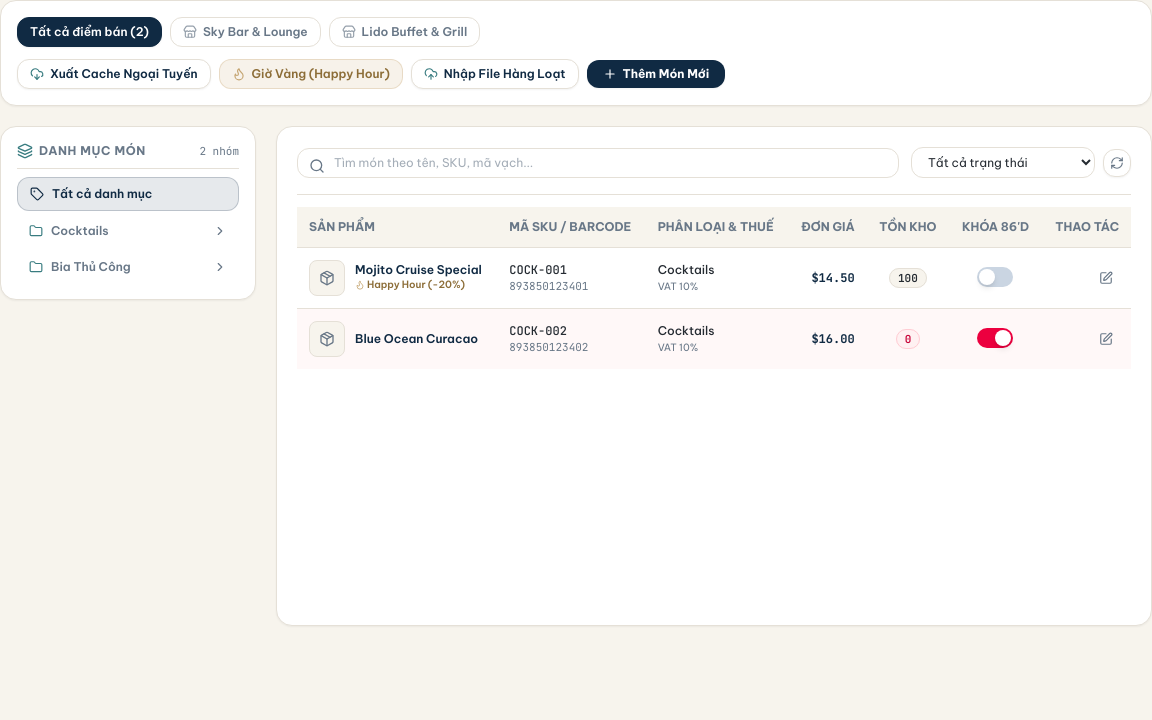
Scenario: PosCatalogManagement Component Tests (KAN-396) › warns when offline package is served from cached fallback
expect the text "Sky Bar & Lounge" is shown: met, box [203,24,308,40]
Step 1. Click the button "Xuất Cache Ngoại Tuyến" → (114,74), box [17,59,211,89]
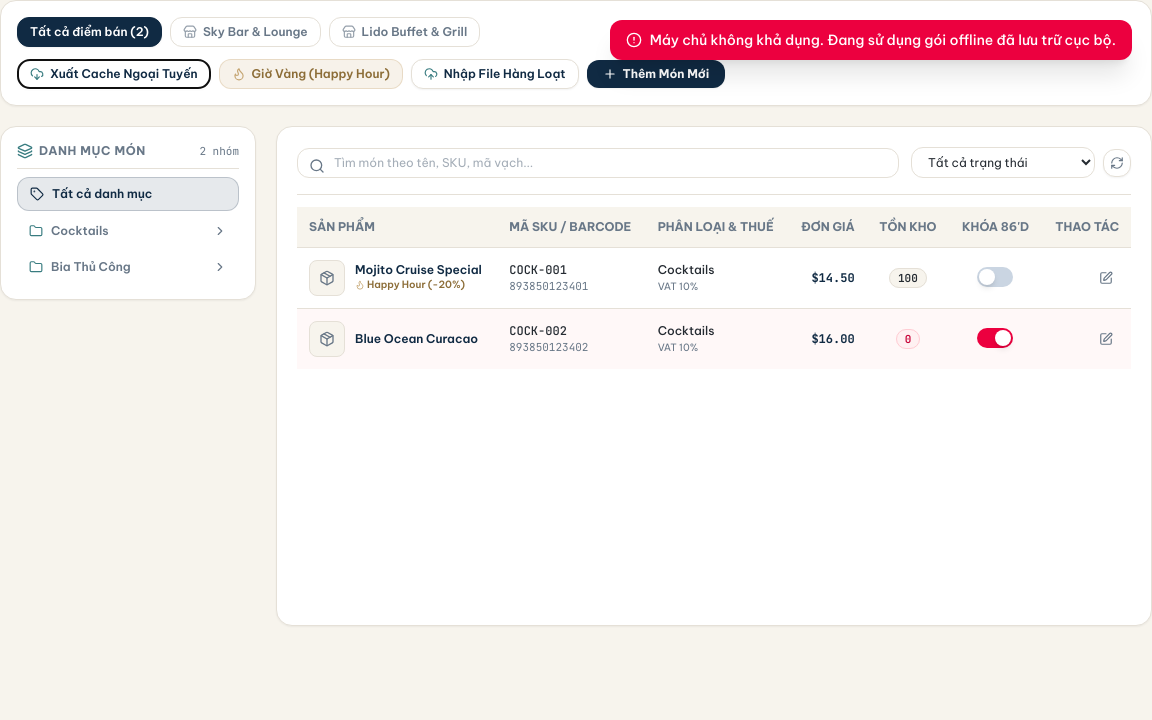
expect the text "Đang sử dụng gói offline đã lưu trữ cục bộ" is shown: met, box [650,31,1116,49]
